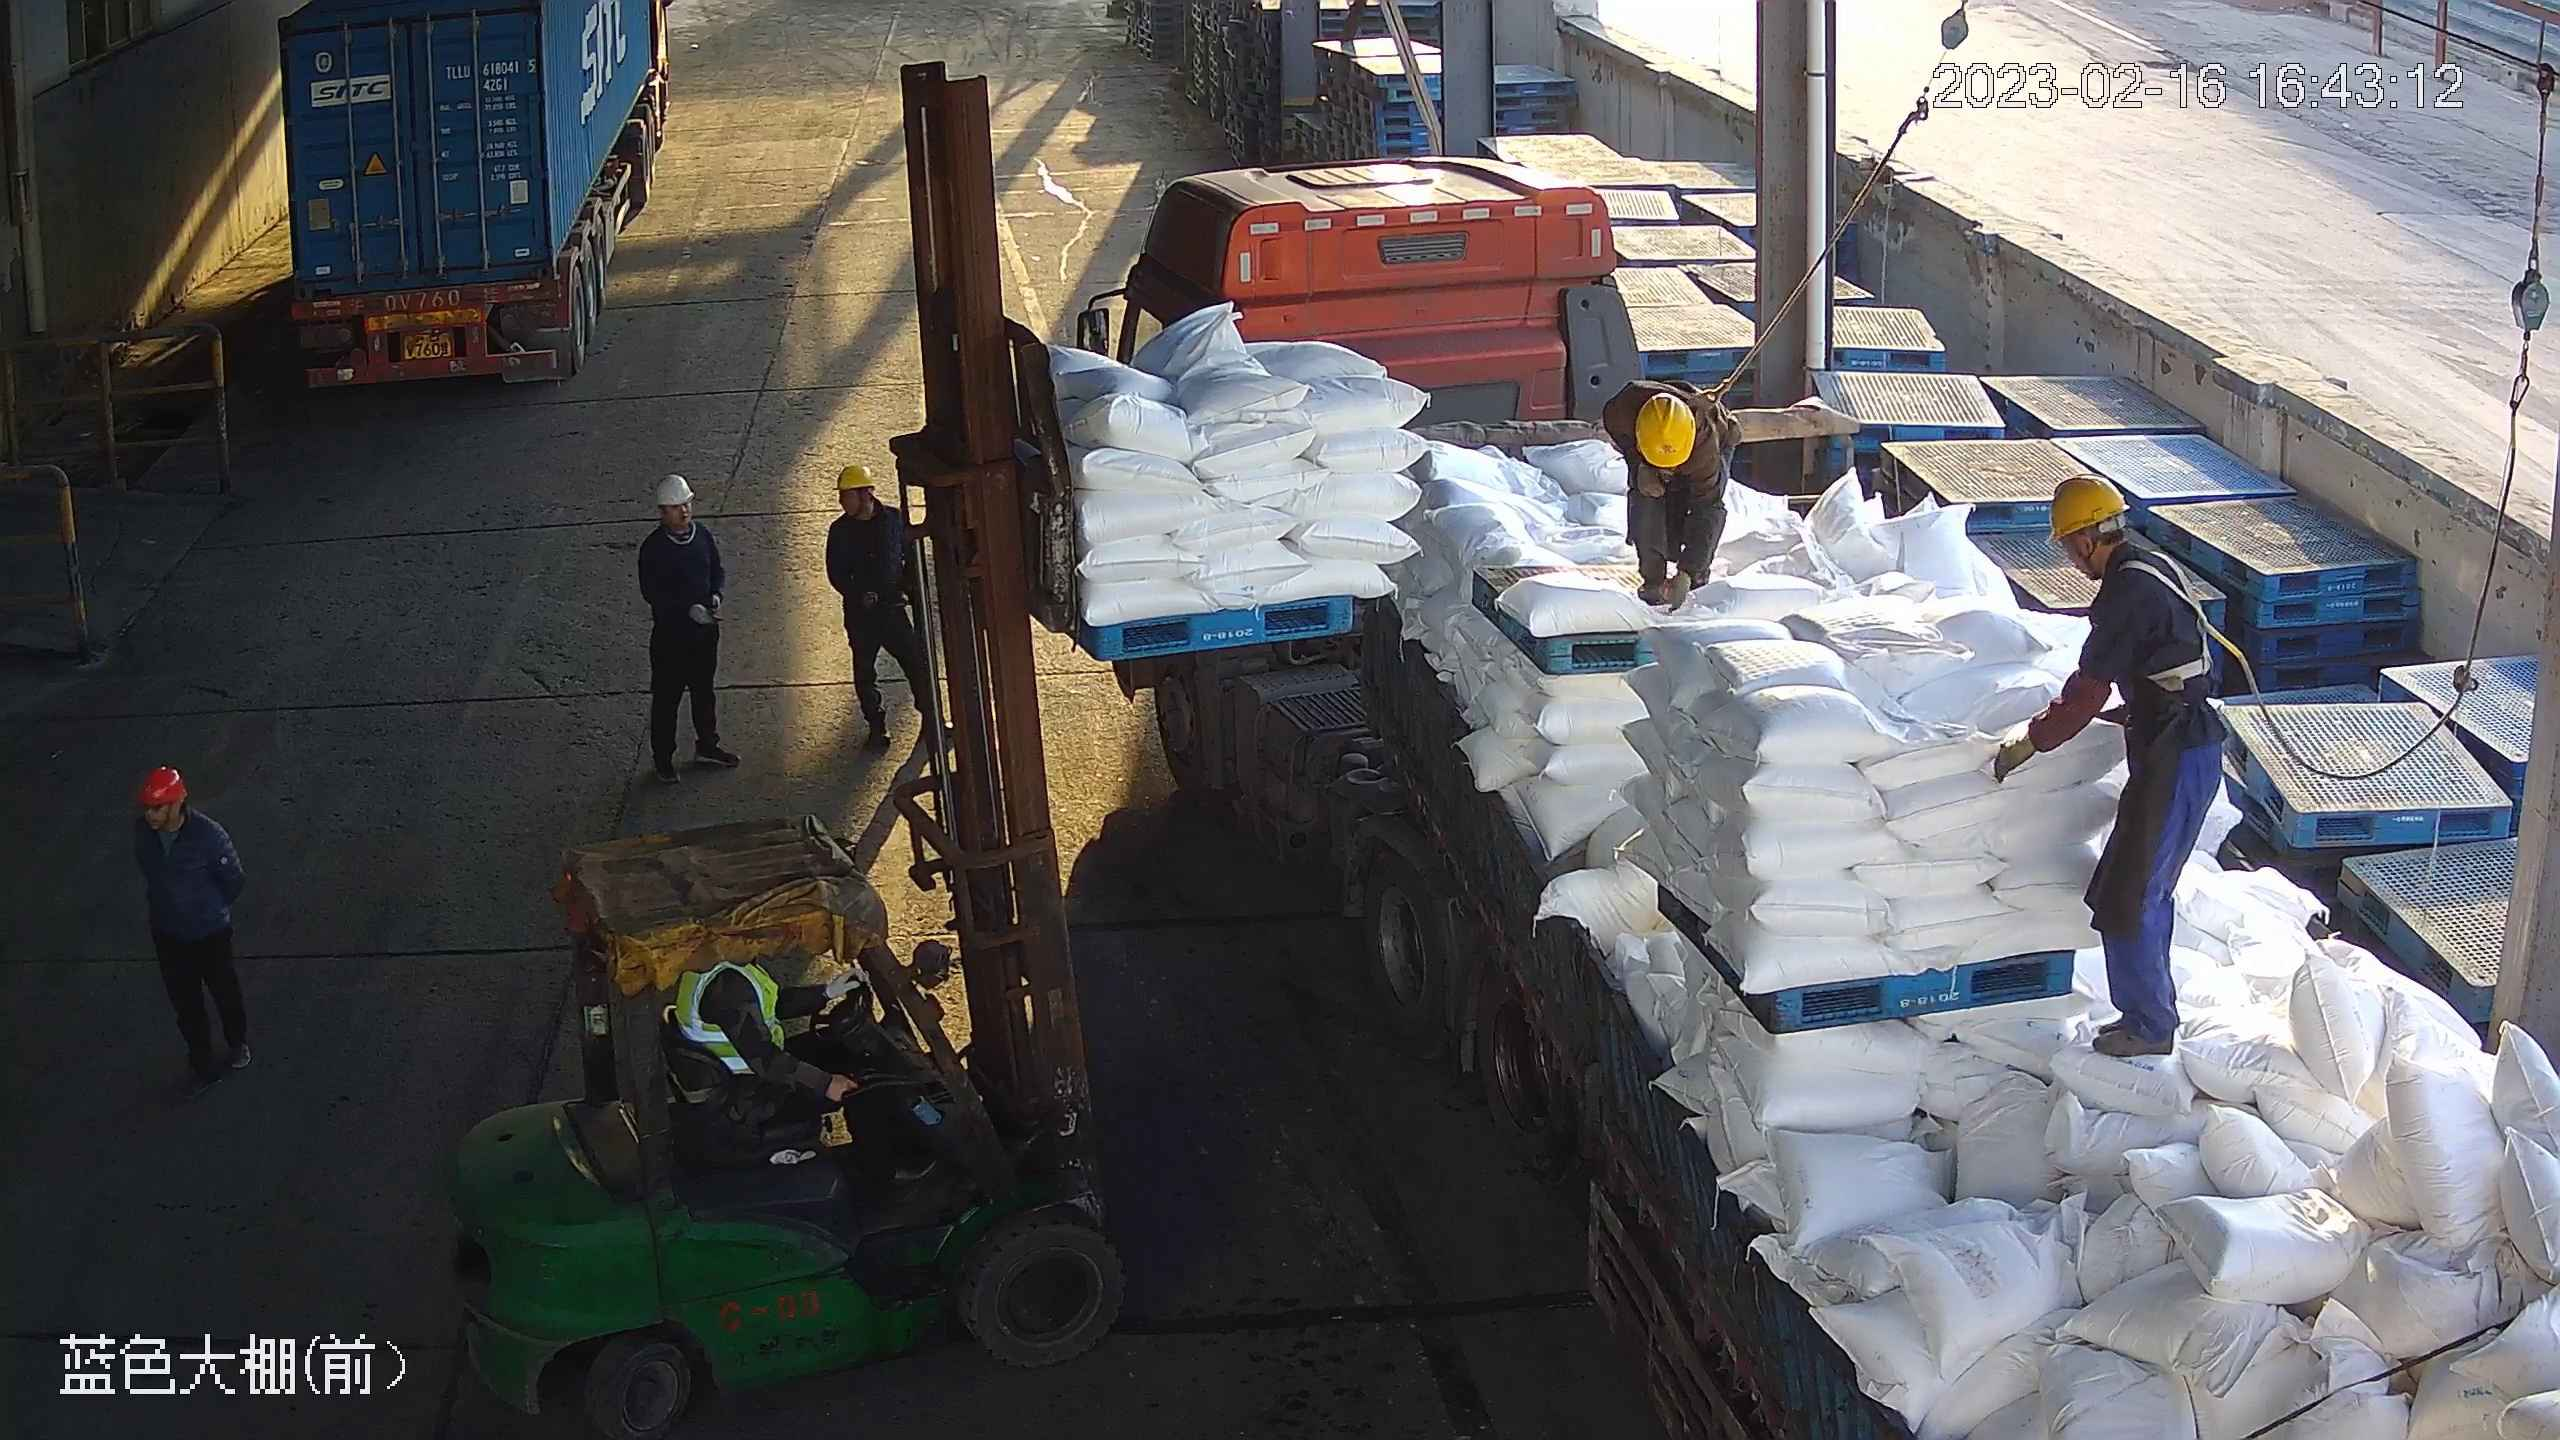belt: (2102, 550, 2232, 685), (1664, 368, 1751, 423)
head: (2027, 473, 2222, 662), (1605, 381, 1730, 499), (814, 468, 923, 573), (131, 782, 238, 862), (640, 471, 727, 555)
helmet: (2044, 477, 2138, 545), (1636, 392, 1701, 477), (135, 762, 194, 812), (653, 468, 705, 508), (835, 462, 885, 494)
people: (1985, 472, 2237, 1075), (127, 768, 272, 1077), (1592, 371, 1740, 621), (812, 466, 946, 744), (635, 473, 749, 775)
truck: (1111, 166, 2560, 1440)
